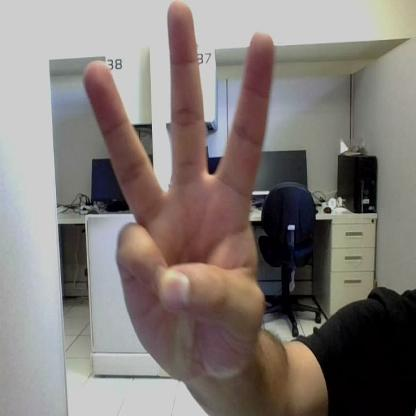W: (85, 1, 274, 381)
